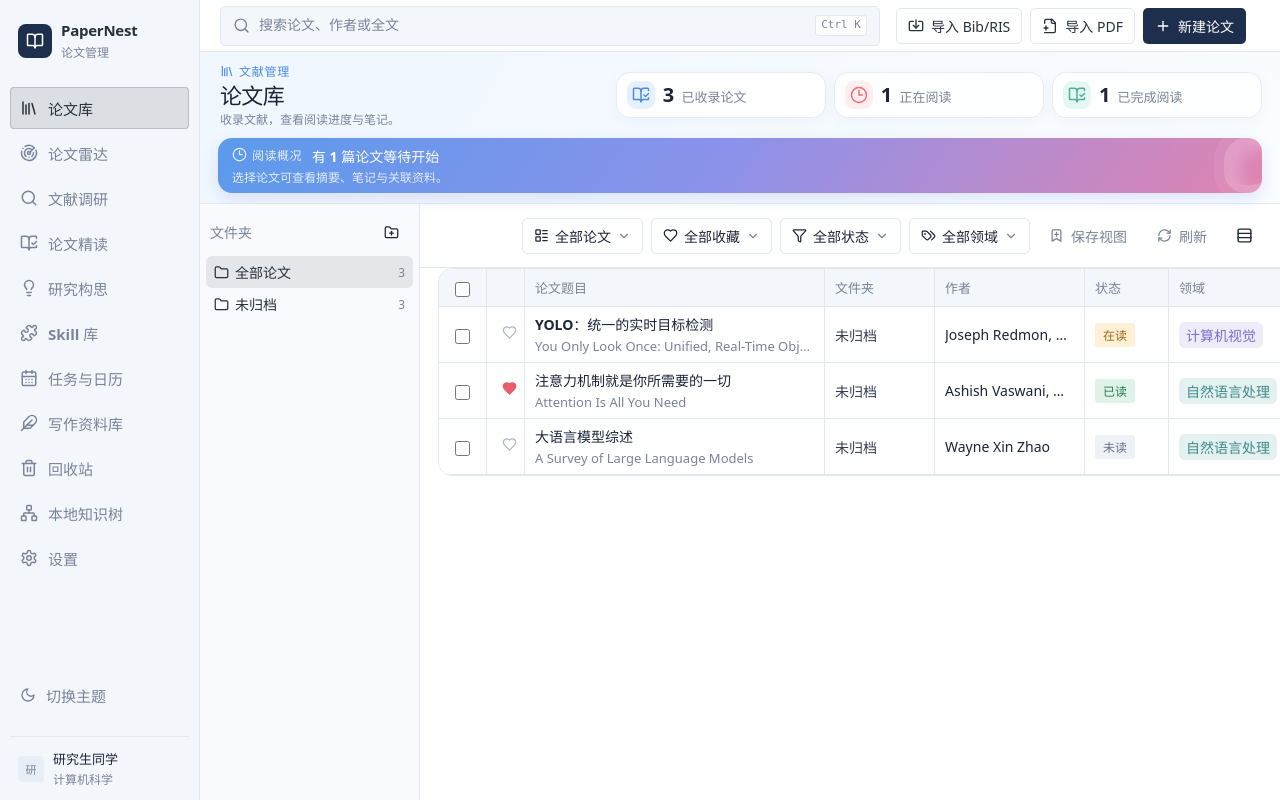
Test: global search errors › shows a full-text search failure while leaving the library open
In the field named "搜索论文": (533, 26) [259, 14, 806, 37], type "Transformer"
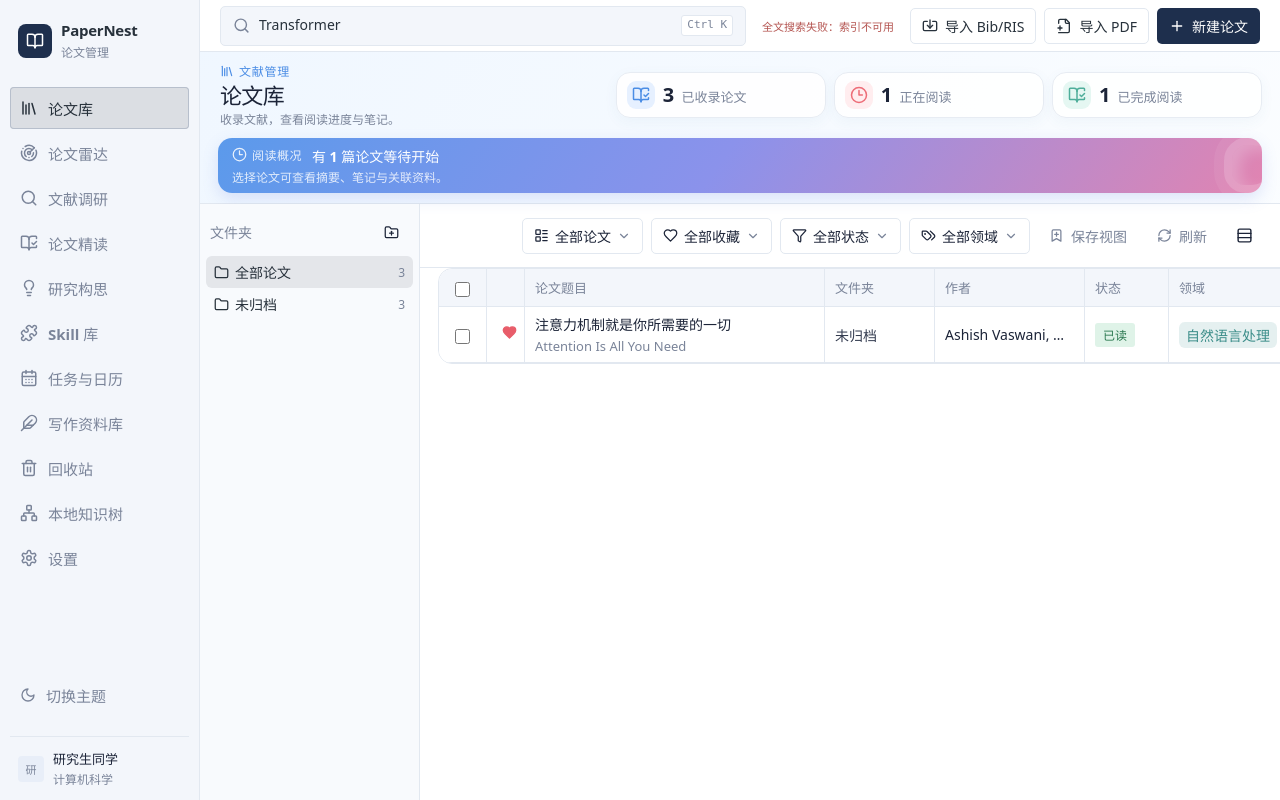
Expected: the heading "论文库" is shown, [220, 80, 284, 110]
Result: the message reads "全文搜索失败：索引不可用" at [762, 18, 894, 34]
